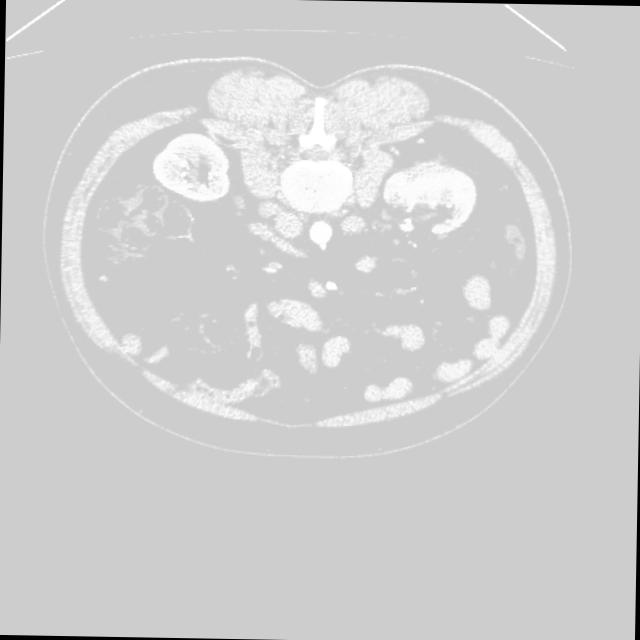TUMOR: (123, 112, 529, 378)
